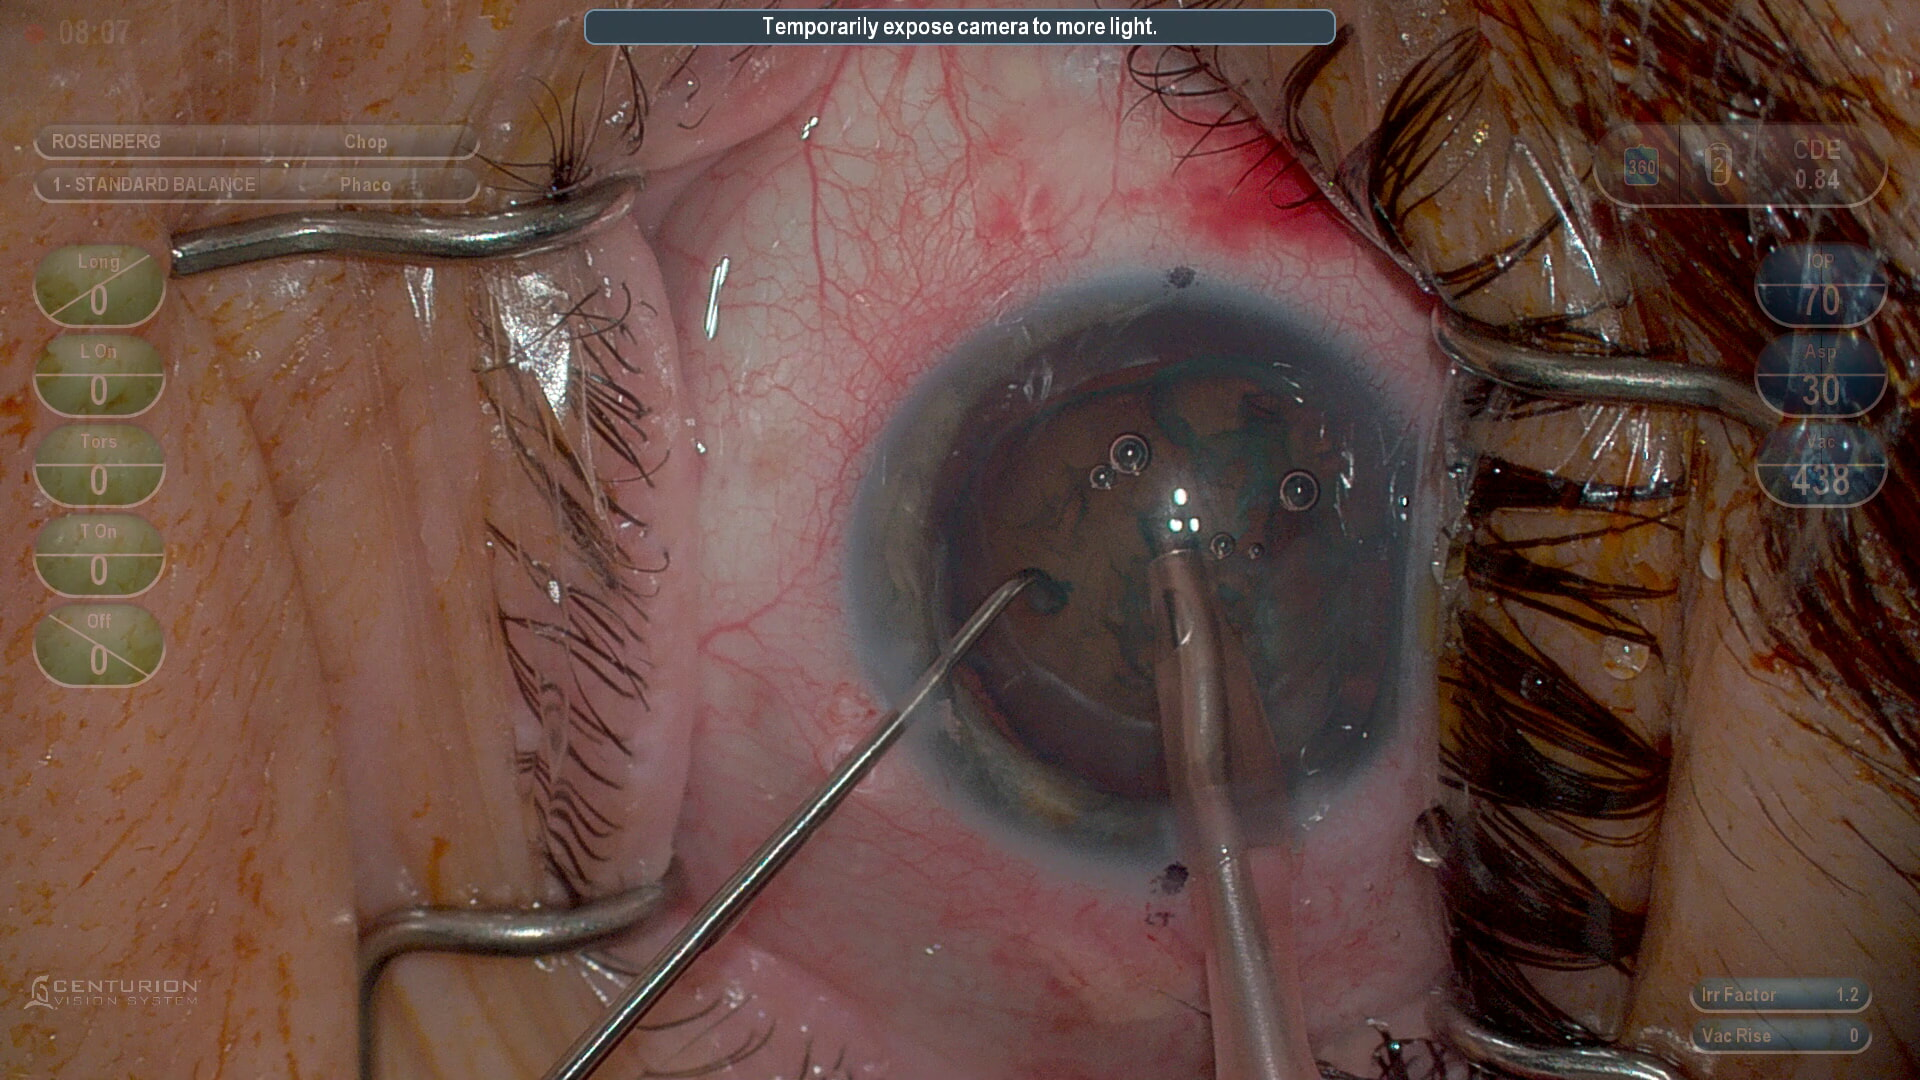iris: (879, 282, 1432, 851)
pupil: (938, 307, 1405, 790)
